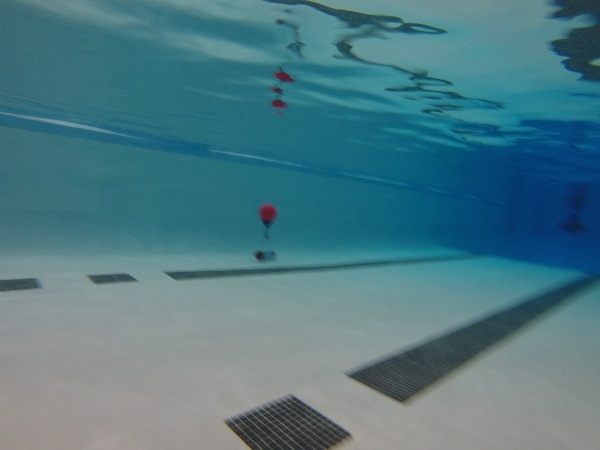buoy_red: (257, 202, 278, 229)
